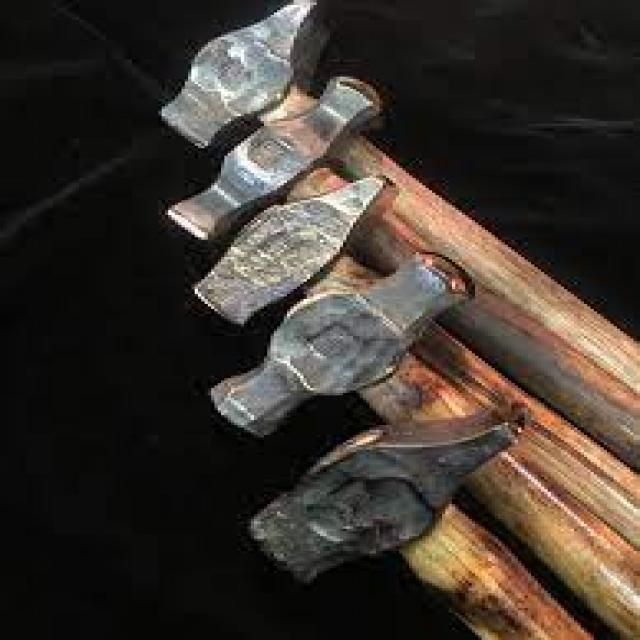hammer: (161, 76, 640, 640), (152, 0, 640, 469), (188, 173, 640, 640), (204, 254, 640, 640), (239, 398, 596, 640)
